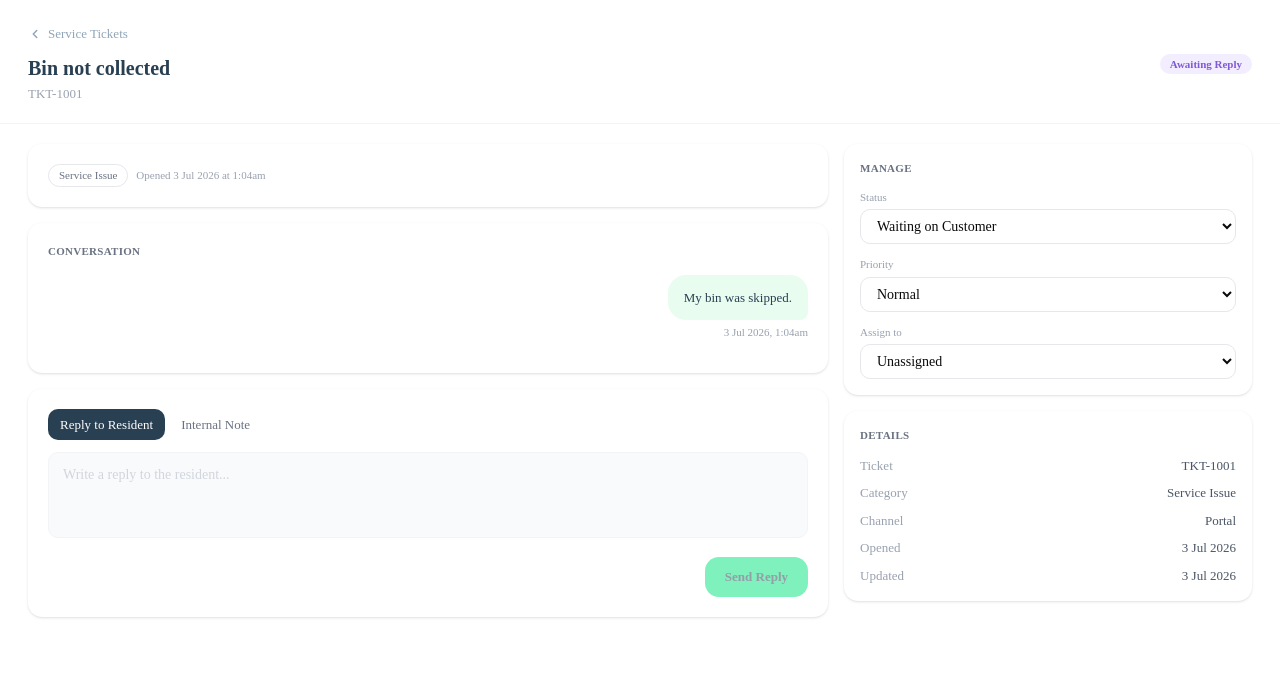
Test: admin ticket page — resident reply email outcome › says the resident has no email on file, with nothing to resend
The image size is (1280, 699).
In the text box with placeholder "Write a reply to the resident...": (428, 495) [48,452,808,538], type "We will collect it tomorrow."
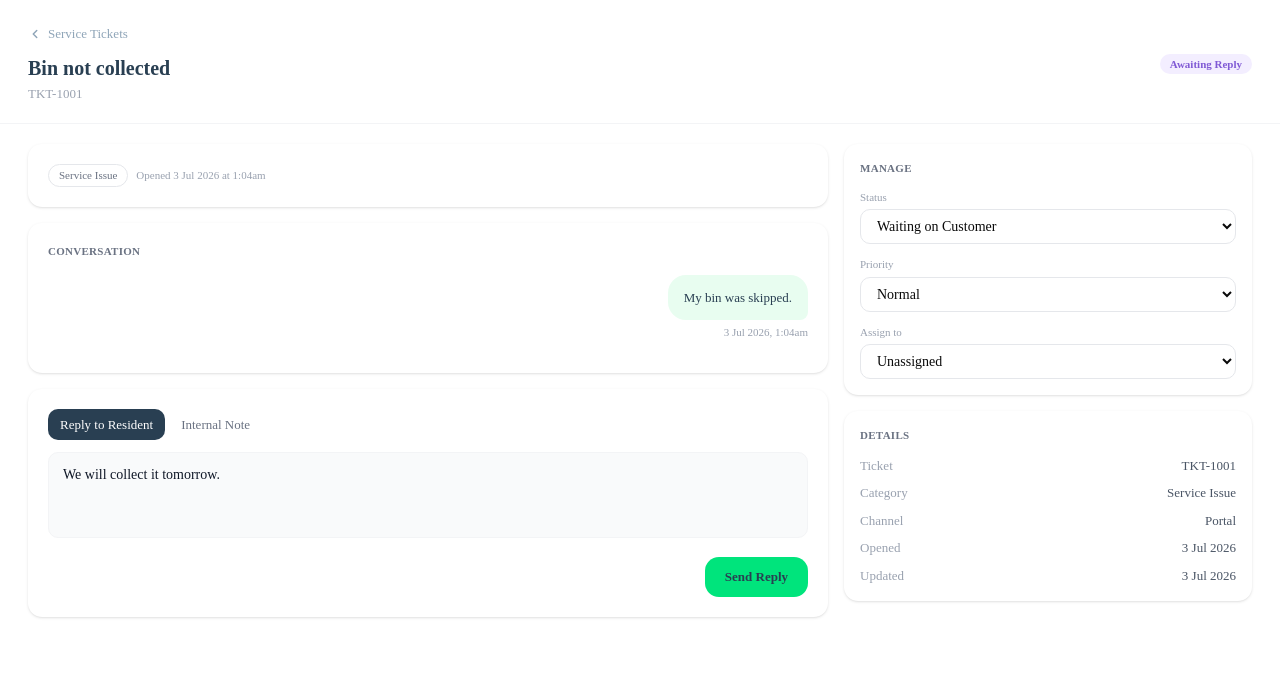
Click the button "Send Reply": (756, 577) [705,557,808,597]
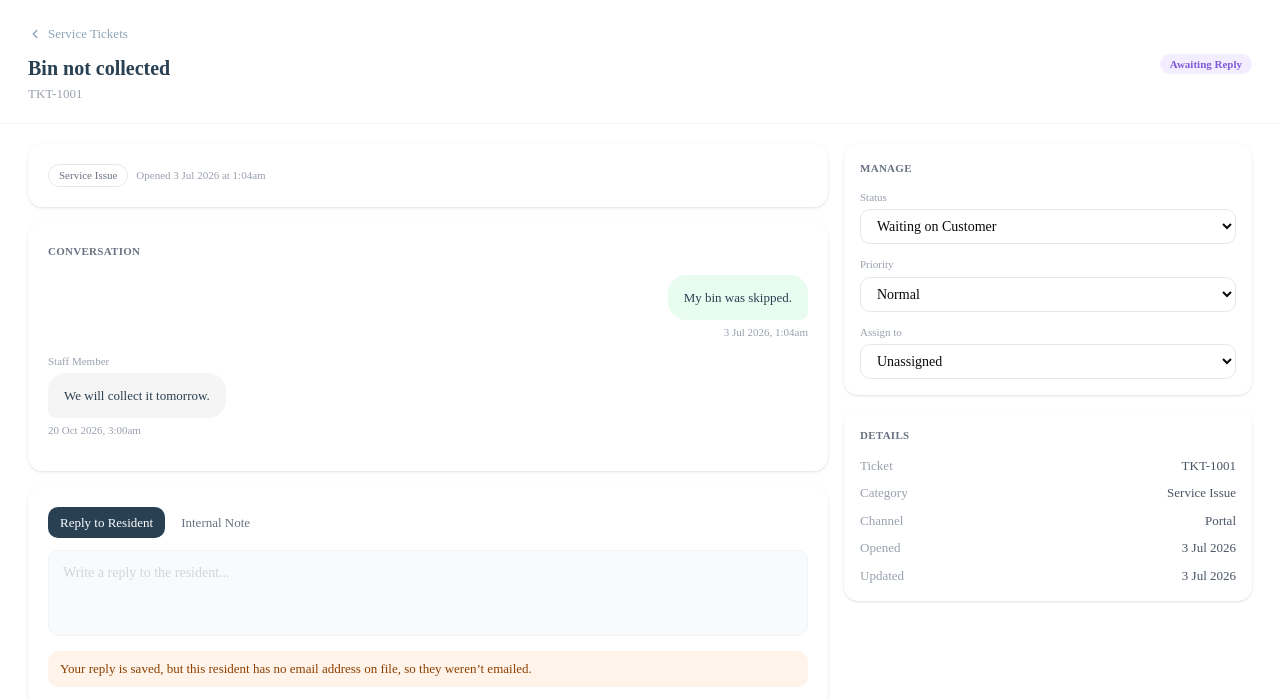
Check: the text "no email address on file" is shown, box [60,661,532,676]
